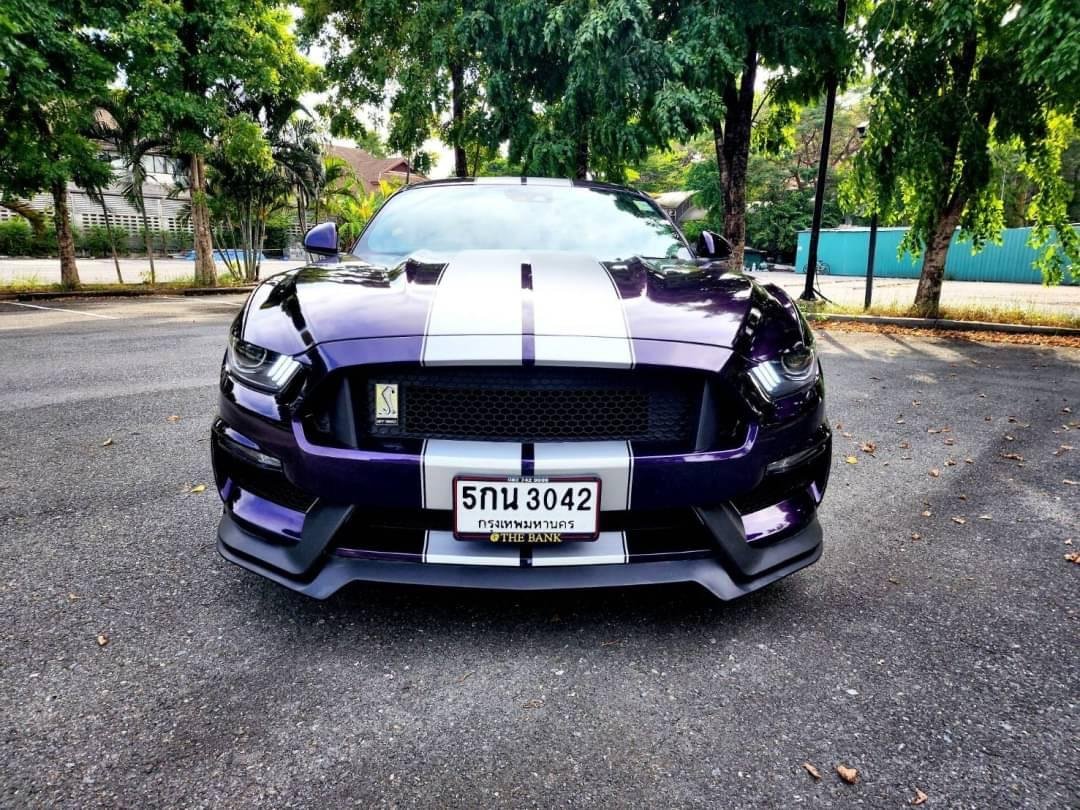license-plate: (449, 469, 608, 553)
